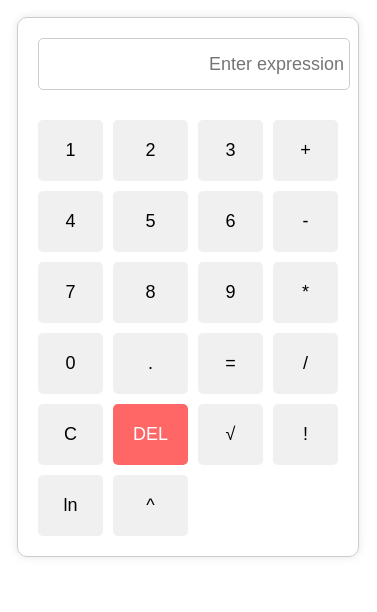
Test: Calculator › handles API error gracefully
This screenshot has width=377, height=612.
What coordinates should you click on to do the following:
click the button "5"
I would click on:
 (150, 222)
Its box is left=113, top=191, right=188, bottom=252.
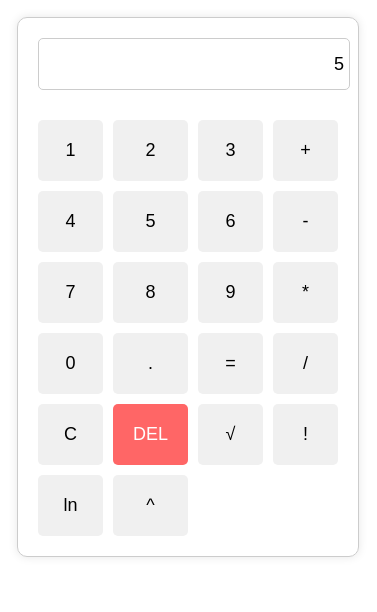
What coordinates should you click on to do the following:
click the button "+"
I would click on:
 (306, 150)
Its box is left=273, top=120, right=338, bottom=181.
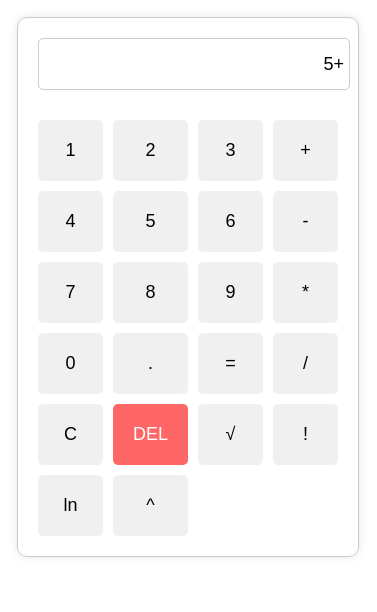
What coordinates should you click on to do the following:
click the button "3"
I would click on:
 (230, 150)
Its box is left=198, top=120, right=263, bottom=181.
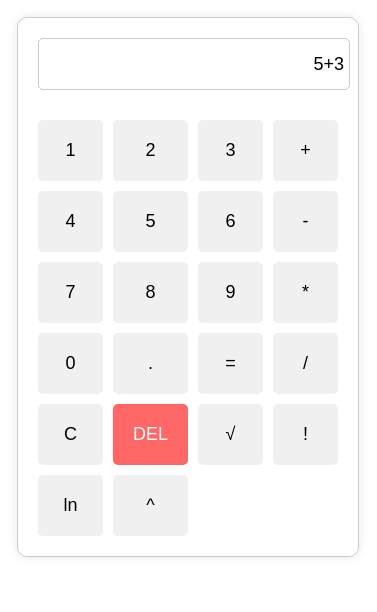
What coordinates should you click on to do the following:
click the button "="
I would click on:
 (230, 364)
Its box is left=198, top=333, right=263, bottom=394.
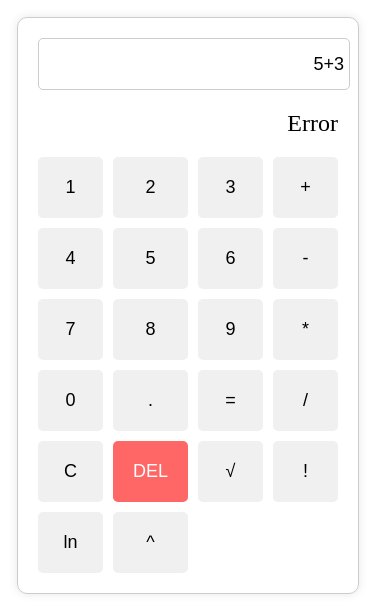
expect the text "Error" is shown: met, box left=287, top=110, right=338, bottom=136
